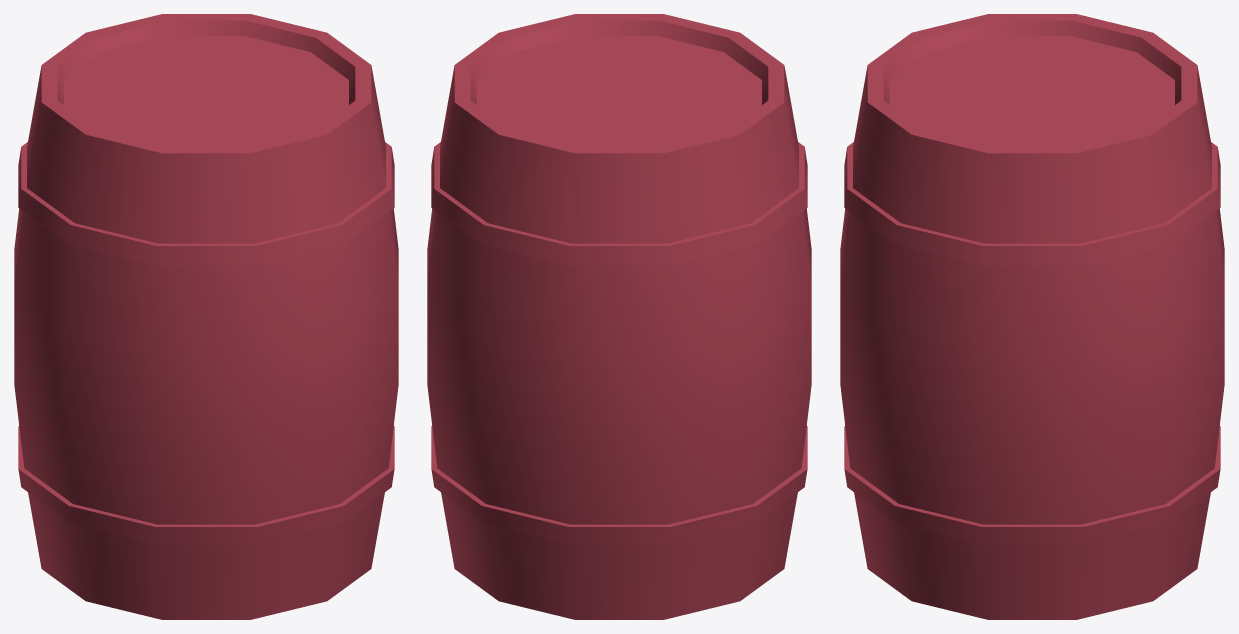
Rendered from barrel.fbx.
3 views of the same model, side by side, from view 1: azimuth 30°, elevation 25°; view 2: azimuth 150°, elevation 25°; view 3: azimuth 270°, elevation 25° (orthographic).
Parts seen in each view (by area): view 1: polySurface4903; view 2: polySurface4903; view 3: polySurface4903.
Boxes of the visible parts, box(x1,y1,x2,y2) form: polySurface4903: box(14, 14, 398, 619); polySurface4903: box(427, 14, 811, 619); polySurface4903: box(840, 14, 1224, 619).
Size of the model in its own units: 0.5106 by 0.6843 by 0.5106.
